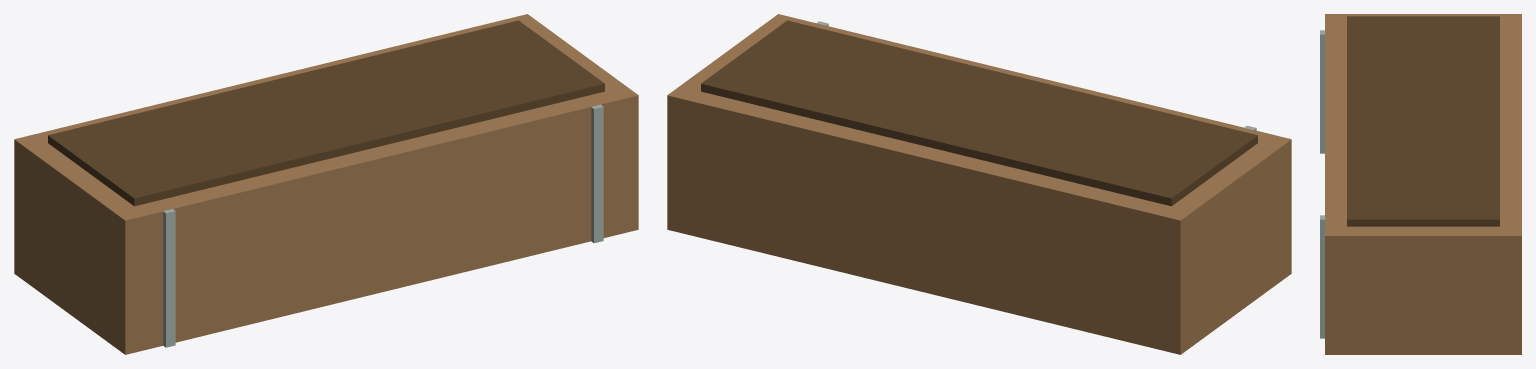
File: PLAZA-020.glb
3 renders of one model, left to right at view 1: azimuth 30°, elevation 25°; view 2: azimuth 150°, elevation 25°; view 3: azimuth 270°, elevation 25°, orthographic. The views are drawn at different scales.
Parts seen in each view (by area): view 1: PLAZA-020; view 2: PLAZA-020; view 3: PLAZA-020.
Part boxes in pixels (bbox=[...]): PLAZA-020: bbox=[14, 14, 638, 354]; PLAZA-020: bbox=[667, 14, 1291, 354]; PLAZA-020: bbox=[1320, 14, 1521, 354].
Size of the model in its own units: 2.4 by 0.635 by 0.9225.
